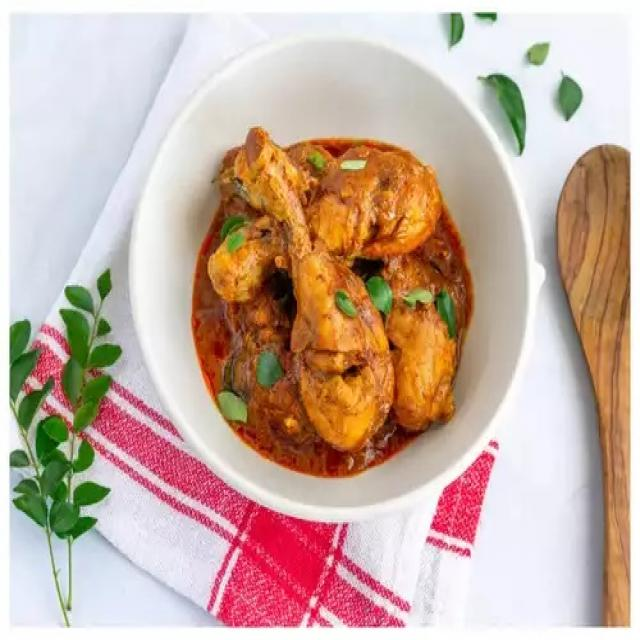Chicken Gravy: (186, 125, 476, 483), (189, 126, 475, 481)
